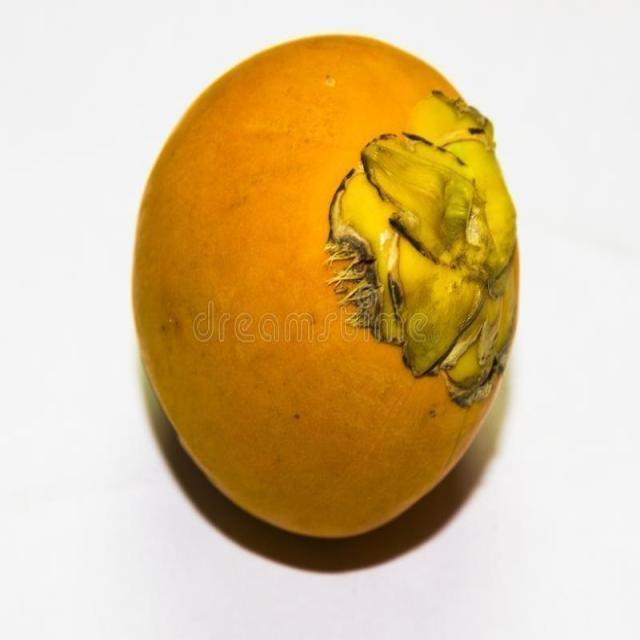good: (130, 35, 522, 545)
